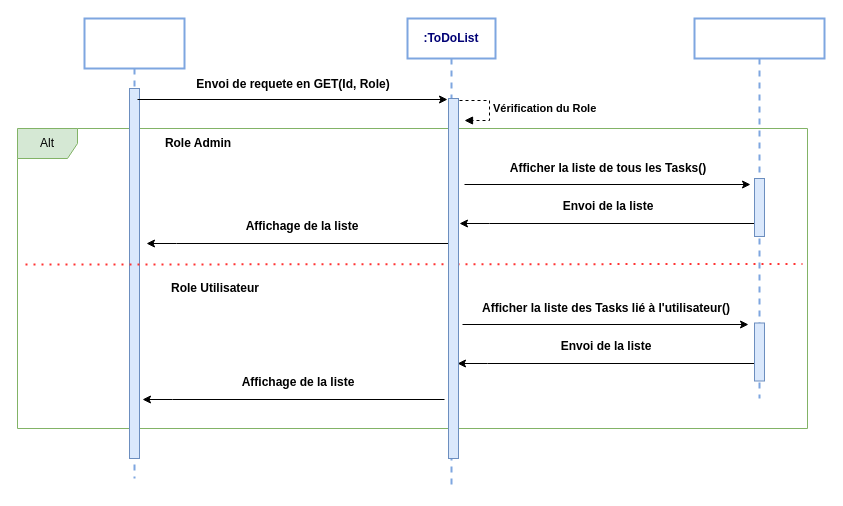
This 843x506 diagram has some shape labels left out. Here are the shapes that lost their labels. From the top down, the box of each, then its label:
(693, 17, 825, 399): :Base de données
(83, 17, 185, 479): :Administrateur :Utilisateur
